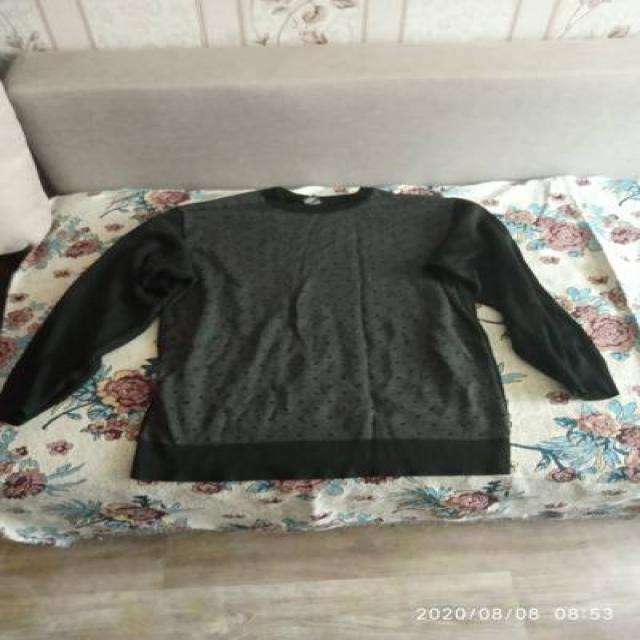Clothes -Biodegradable-: (0, 191, 615, 482)
